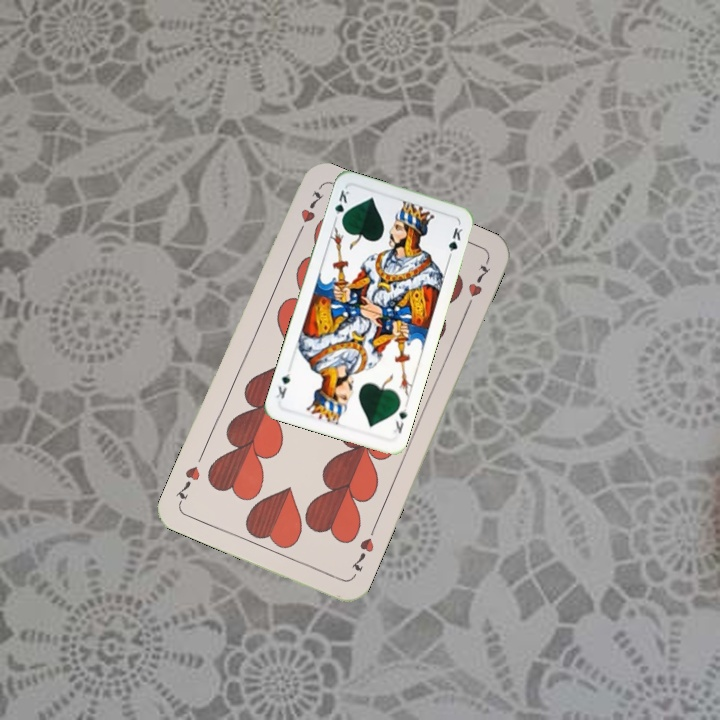GK: (330, 186, 352, 226), (389, 404, 410, 436)
H7: (292, 187, 326, 240), (347, 533, 377, 574)
